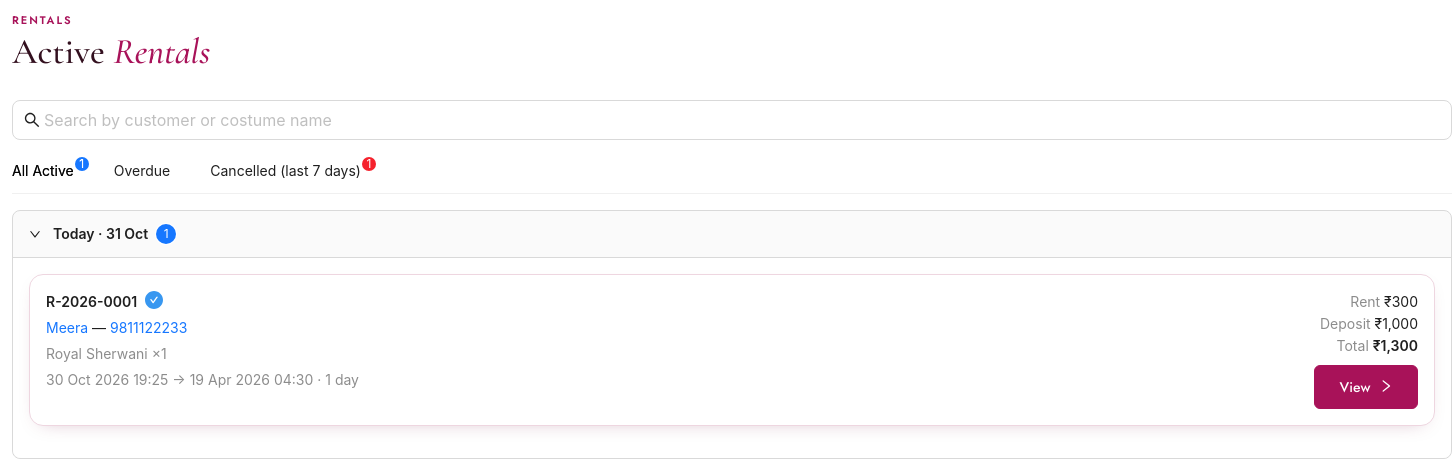
Test: ReceiptsPage cancelled tab (#166) › lists recently cancelled receipts with a Cancelled tag and a View button
Click the tab "Cancelled (last 7 days) 1": coordinates (290, 171) left=210, top=160, right=369, bottom=182
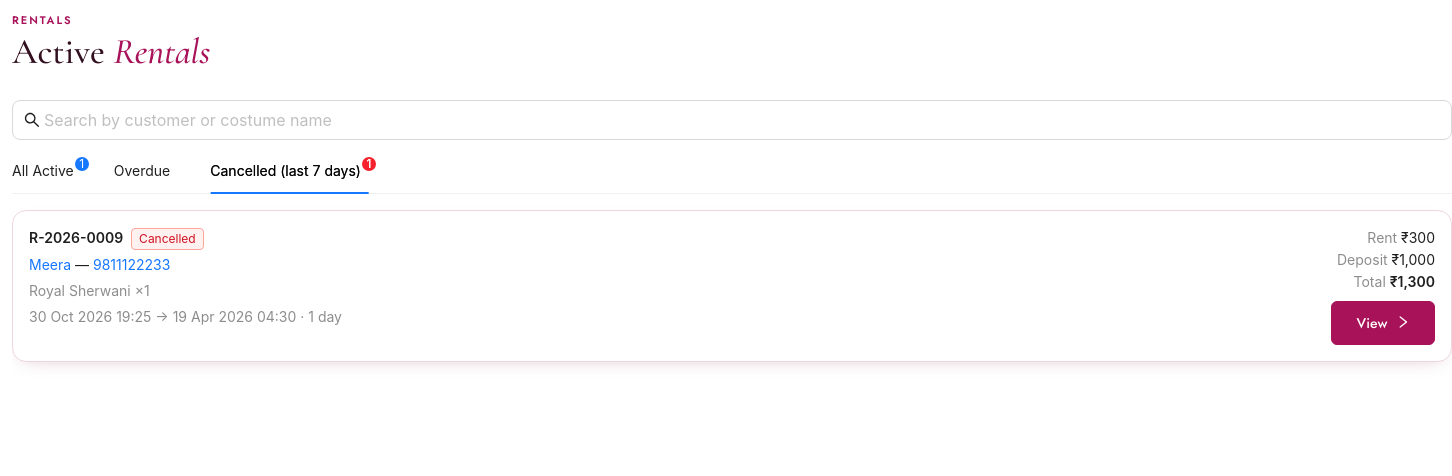
Check: the button "View" is shown, box left=1331, top=301, right=1435, bottom=345
Check: the text "R-2026-0009" is shown, box left=29, top=229, right=123, bottom=246
Check: the text "Cancelled" is shown, box left=131, top=228, right=204, bottom=250
